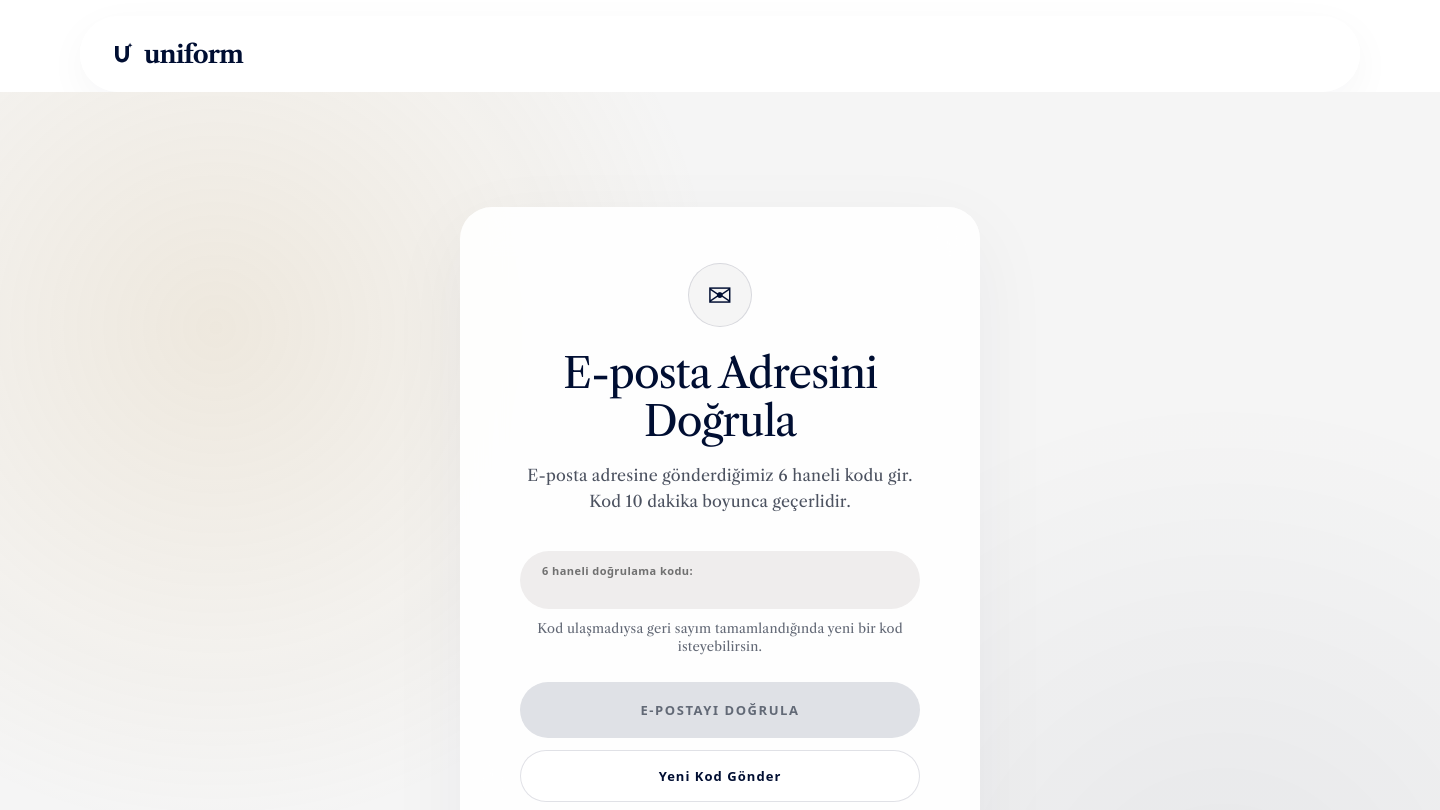
Test: email verification flow › resend starts the server-provided cooldown
Click the button "Yeni Kod Gönder": click(720, 776) [520,750,920,802]
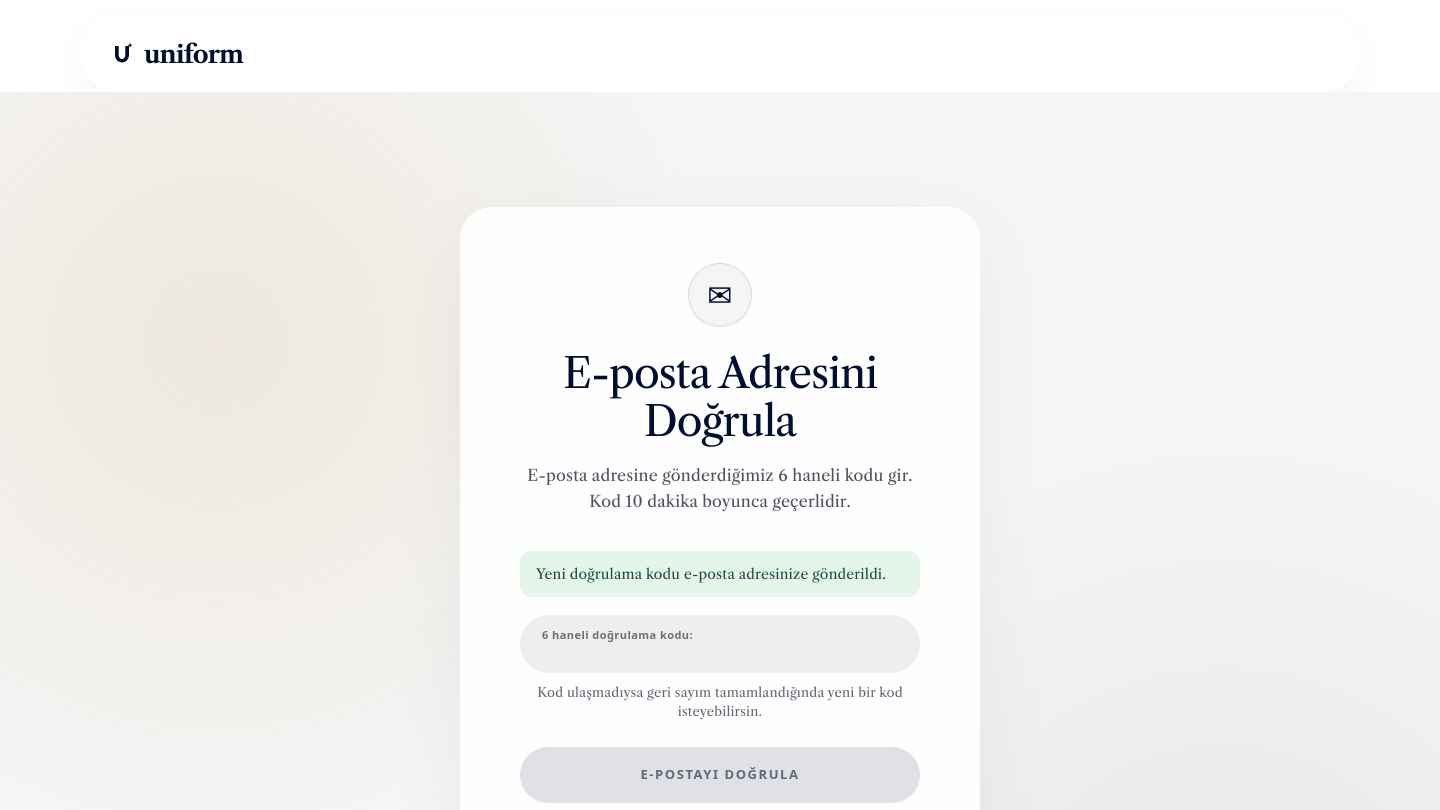
Expected: the message reads "Yeni doğrulama kodu e-posta adresinize gönderildi.", [536,565,886,583]
